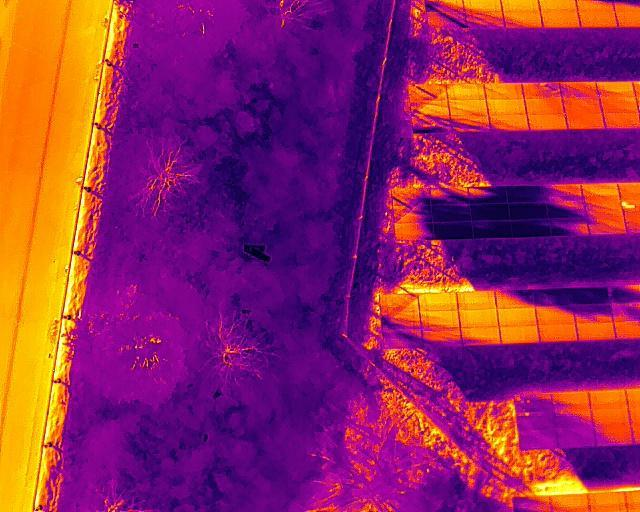No-Anomaly: (588, 493, 628, 512), (499, 325, 539, 344), (497, 308, 537, 327), (540, 8, 581, 26), (592, 407, 630, 426), (456, 292, 496, 310), (458, 309, 498, 327), (576, 321, 616, 339), (579, 9, 619, 27), (538, 325, 577, 343), (589, 391, 629, 408), (418, 294, 457, 311), (420, 311, 460, 327), (551, 495, 590, 511), (565, 114, 606, 129), (528, 113, 568, 128), (524, 98, 564, 113), (600, 96, 639, 111), (563, 97, 602, 112), (603, 112, 640, 127), (487, 99, 526, 113)
Shadowing: (430, 203, 472, 225), (509, 218, 551, 239), (390, 187, 432, 207), (431, 221, 472, 241), (394, 222, 435, 242), (470, 219, 511, 239), (508, 200, 548, 220), (504, 183, 546, 202), (557, 427, 596, 447), (393, 204, 432, 224), (572, 304, 613, 323), (469, 204, 510, 223), (534, 307, 575, 326), (468, 186, 509, 205), (533, 288, 574, 307), (595, 425, 633, 445), (495, 289, 535, 308), (460, 327, 500, 346), (514, 394, 554, 413), (555, 409, 594, 428), (519, 429, 558, 448), (382, 329, 423, 347), (543, 183, 584, 201), (582, 183, 620, 202), (504, 10, 544, 28), (465, 10, 505, 28), (572, 286, 612, 304), (422, 328, 461, 346), (546, 201, 587, 218), (426, 10, 467, 27), (559, 81, 600, 98), (552, 392, 590, 410), (550, 218, 588, 236), (380, 312, 420, 329), (517, 413, 556, 430), (380, 295, 419, 312), (409, 84, 447, 101), (410, 99, 450, 115), (586, 216, 626, 232), (411, 116, 450, 132), (446, 83, 485, 99), (597, 81, 636, 97), (522, 82, 561, 98), (485, 82, 523, 98), (489, 114, 528, 129), (449, 100, 488, 115), (513, 496, 550, 511), (450, 115, 489, 129), (586, 201, 621, 216)
